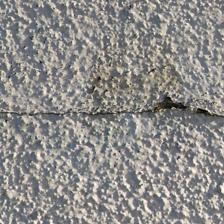Crack: (3, 51, 220, 80)
